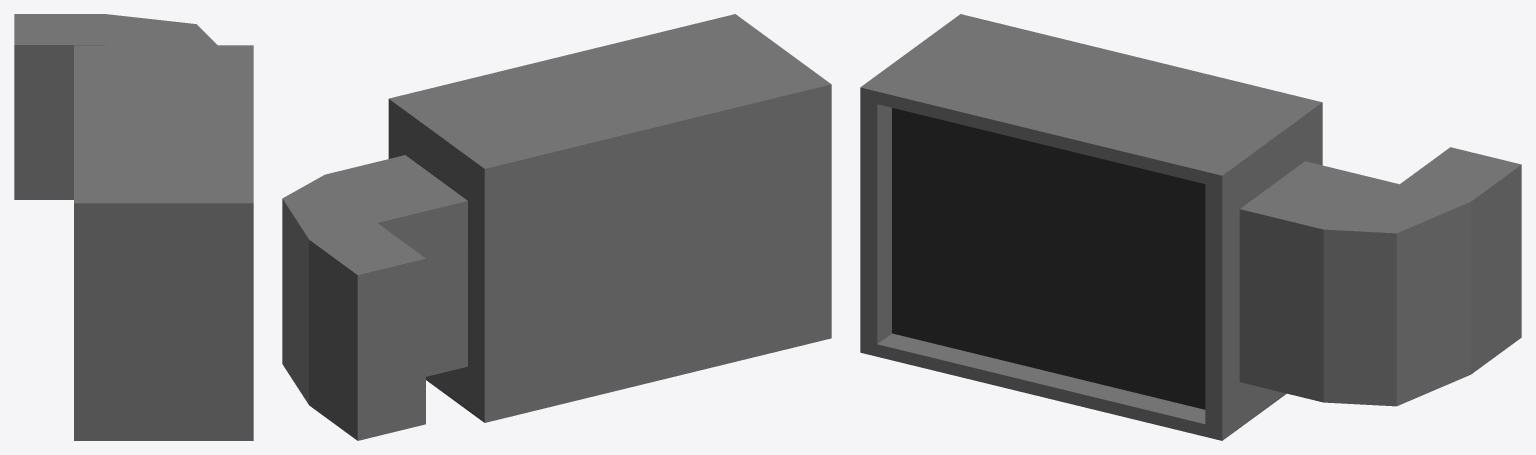
The model's file is CurrencyDisplay.fbx.
The picture shows the model from 3 angles, left to right: view 1: azimuth 30°, elevation 25°; view 2: azimuth 150°, elevation 25°; view 3: azimuth 270°, elevation 25°; orthographic projection. The views are drawn at different scales.
Visible parts, largest first — view 1: CurrencyDisplay; view 2: CurrencyDisplay; view 3: CurrencyDisplay.
Boxes of the visible parts, left/top/right/bottom form: CurrencyDisplay: left=14, top=14, right=253, bottom=440; CurrencyDisplay: left=282, top=14, right=831, bottom=440; CurrencyDisplay: left=860, top=14, right=1521, bottom=440.
Size of the model in its own units: 188 by 134 by 304.
